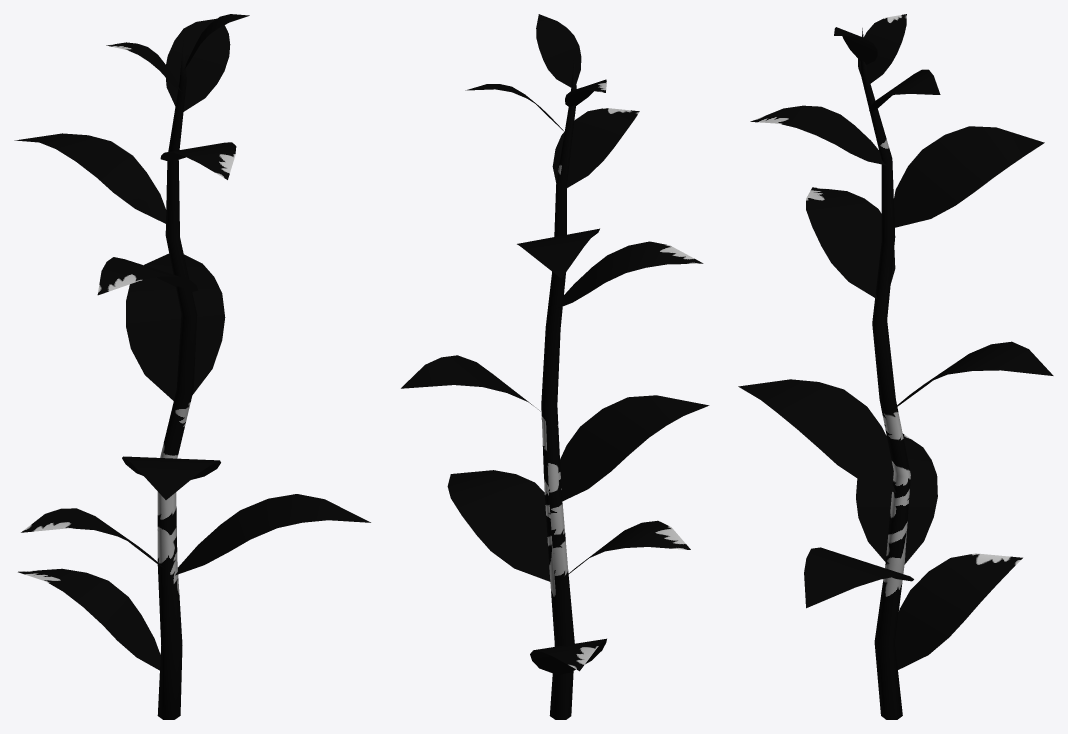
File: SM_Plant_02.glb
3 views of the same model, side by side, from view 1: azimuth 30°, elevation 25°; view 2: azimuth 150°, elevation 25°; view 3: azimuth 270°, elevation 25° (orthographic). The views are drawn at different scales.
Parts seen in each view (by area): view 1: SM_Plant_02; view 2: SM_Plant_02; view 3: SM_Plant_02.
Boxes of the visible parts, x1,y1,x2,y2 form: SM_Plant_02: (14,14,370,719); SM_Plant_02: (401,14,709,719); SM_Plant_02: (738,14,1053,719).
Bounding box in the file's own units: 0.5564 × 1.24 × 0.5054.
Materials: 1 (1 with a texture image).
